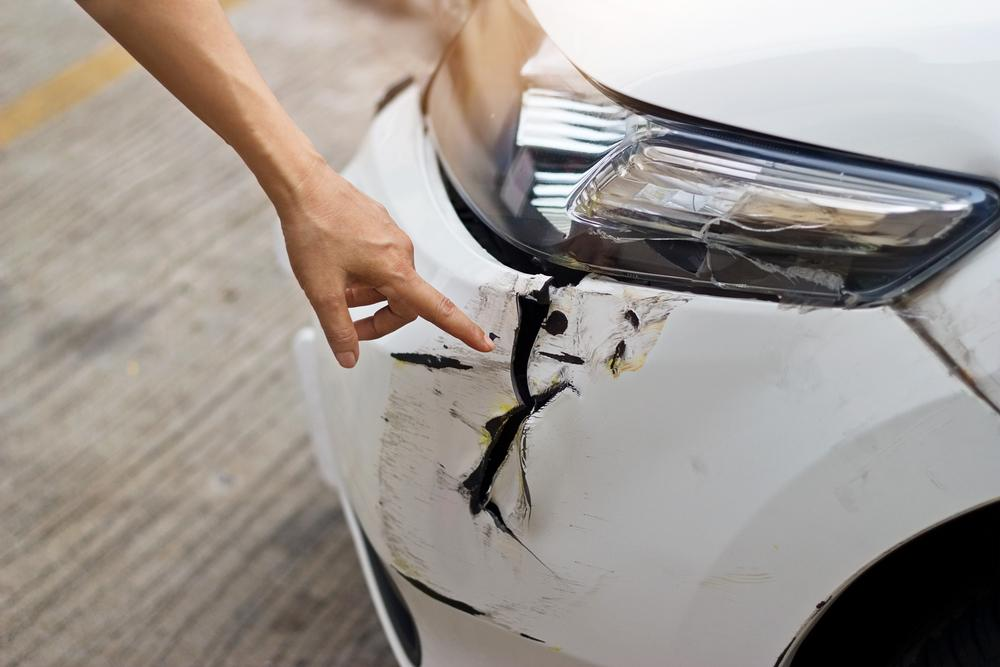crack: (461, 277, 583, 579)
lamp broken: (566, 117, 1000, 301)
scratch: (375, 267, 683, 654)
